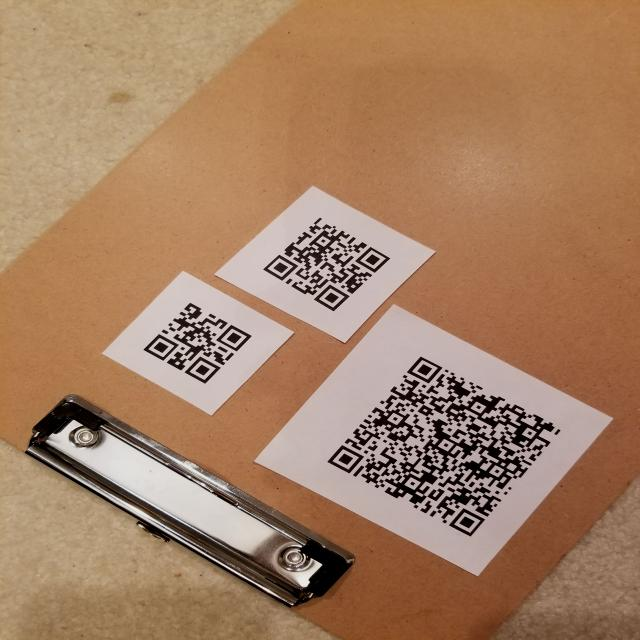QRCode: (317, 349, 577, 545), (260, 207, 402, 321), (138, 287, 260, 392)
